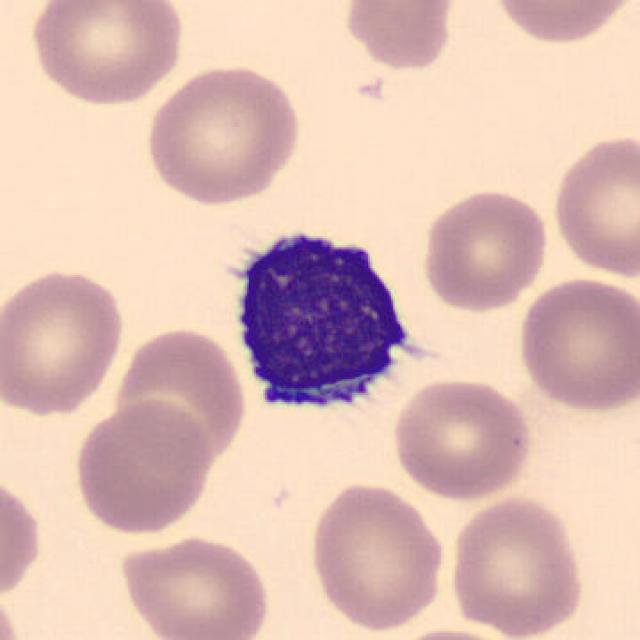Lymphocyte: (224, 212, 423, 432)
RBC: (140, 60, 306, 208), (300, 477, 446, 632), (446, 492, 588, 638), (110, 323, 251, 469), (69, 398, 217, 536), (0, 264, 128, 418), (388, 374, 535, 502), (24, 0, 188, 109), (418, 185, 553, 316), (514, 273, 636, 416), (114, 532, 274, 640), (548, 129, 638, 282), (339, 0, 458, 72), (486, 0, 638, 48), (0, 467, 46, 608)
